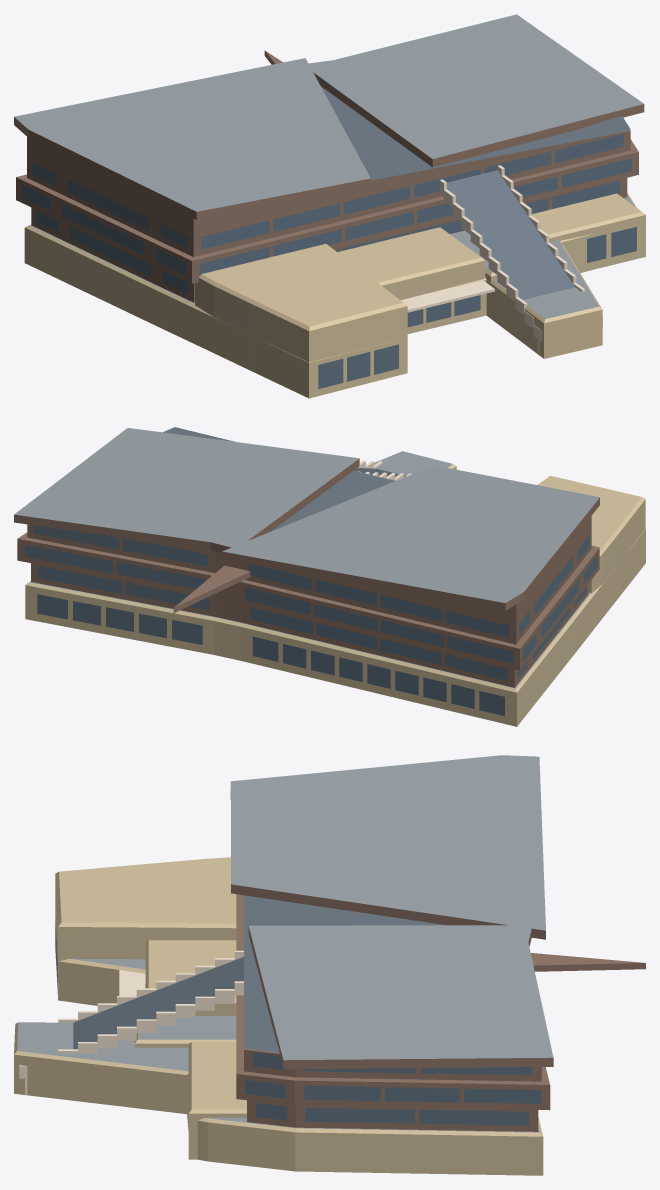
File: atx-city-hall.glb
3 renders of one model, top to bottom at view 1: azimuth 30°, elevation 25°; view 2: azimuth 150°, elevation 25°; view 3: azimuth 270°, elevation 25°, orthographic. The views are drawn at different scales.
Visible parts, largest first — view 1: Austin City Hall; view 2: Austin City Hall; view 3: Austin City Hall.
Boxes of the visible parts, x1,y1,x2,y2 form: Austin City Hall: (14,14,645,398); Austin City Hall: (14,427,645,726); Austin City Hall: (14,755,645,1175).
Size of the model in its own units: 85.37 by 21.67 by 82.11.
